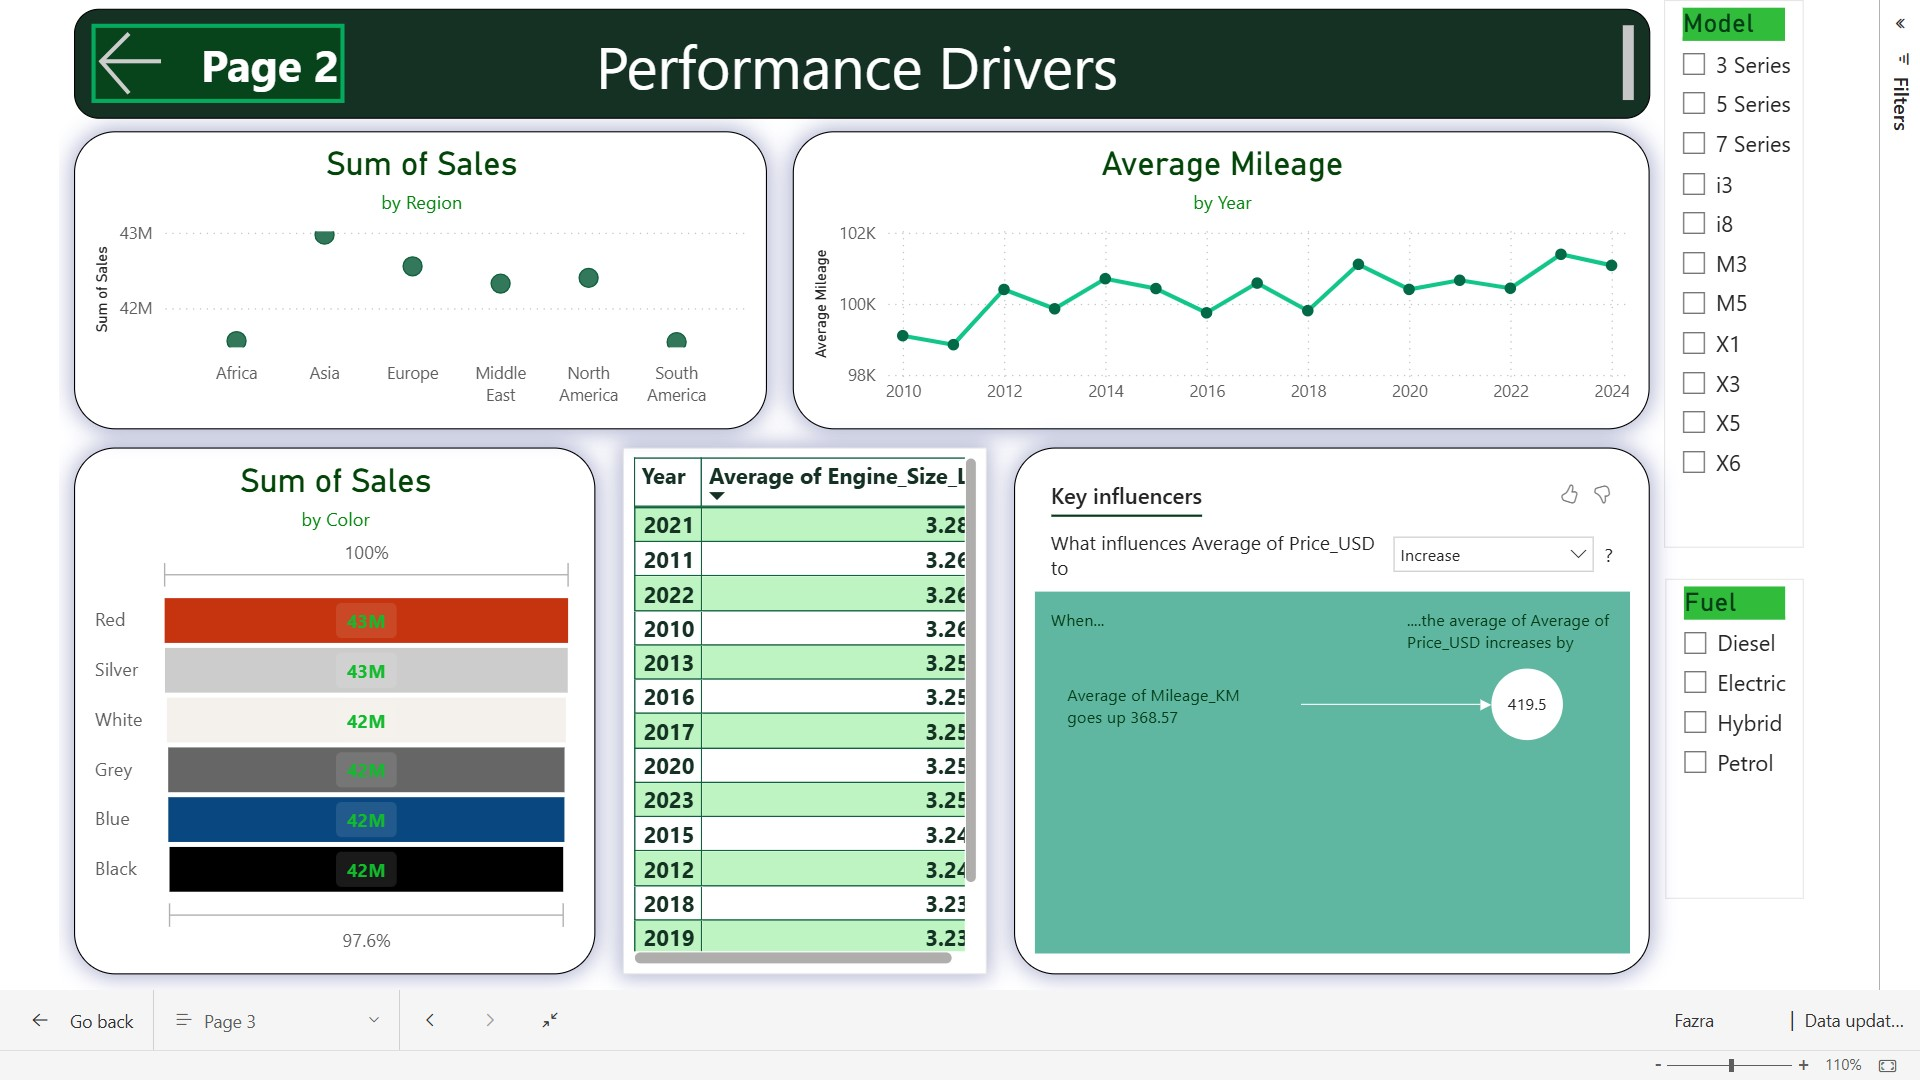

The page's visual inventory and layout, read from the dashboard file:
{"tool":"powerbi","page":{"name":"Page 3","canvas":[1280,720],"ordinal":2},"visuals":[{"type":"lineChart","title":"Average Mileage","fields":{"Category":["BMW sales data (2010-2024).Year"],"Y":["Avg(BMW sales data (2010-2024).Mileage_KM)"]},"box":[533.7,95.7,623.3,217.2],"z":0},{"type":"slicer","fields":{"Values":["BMW sales data (2010-2024).Fuel_Type"]},"box":[1168.1,420.9,100.6,233.1],"z":1000},{"type":"tableEx","fields":{"Values":["BMW sales data (2010-2024).Year","Avg(BMW sales data (2010-2024).Engine_Size_L)"]},"box":[409.8,325.2,265,382.8],"z":2000},{"type":"funnel","title":"Sum of Sales","fields":{"Category":["BMW sales data (2010-2024).Color"],"Y":["Sum(BMW sales data (2010-2024).Sales_Volume)"]},"box":[11,325.2,379.1,382.8],"z":3000},{"type":"slicer","fields":{"Values":["BMW sales data (2010-2024).Model"]},"box":[1166.9,0,101.8,398.8],"z":4000},{"type":"scatterChart","title":"Sum of Sales","fields":{"X":["BMW sales data (2010-2024).Region"],"Y":["Sum(BMW sales data (2010-2024).Sales_Volume)"]},"box":[11,95.7,504.3,217.2],"z":5000},{"type":"keyDriversVisual","fields":{"Target":["BMW sales data (2010-2024).Price_USD"],"ExplainBy":["Avg(BMW sales data (2010-2024).Mileage_KM)"],"Details":["BMW sales data (2010-2024).Region"]},"box":[694.5,325.2,462.6,382.8],"z":6000},{"type":"actionButton","box":[30.7,17.2,170.6,57.7],"z":7000},{"type":"textbox","box":[11,6.1,1146,79.8],"z":8000},{"type":"actionButton","box":[23.3,17.2,184.1,57.7],"z":9000}]}

Visuals, with their boxes on the page's 1280x720 design canvas (x1, y1, x2, y2). These are canvas units, not pixel positions in the 1920x1080 screenshot, which may show the page scaled, cropped or inside an application window:
"Average Mileage" lineChart: [534, 96, 1157, 313]
slicer - BMW sales data (2010-2024).Fuel_Type: [1168, 421, 1269, 654]
tableEx - BMW sales data (2010-2024).Year x Avg(BMW sales data (2010-2024).Engine_Size_L): [410, 325, 675, 708]
"Sum of Sales" funnel: [11, 325, 390, 708]
slicer - BMW sales data (2010-2024).Model: [1167, 0, 1269, 399]
"Sum of Sales" scatterChart: [11, 96, 515, 313]
keyDriversVisual - BMW sales data (2010-2024).Price_USD x Avg(BMW sales data (2010-2024).Mileage_KM): [694, 325, 1157, 708]
actionButton: [31, 17, 201, 75]
textbox: [11, 6, 1157, 86]
actionButton: [23, 17, 207, 75]
